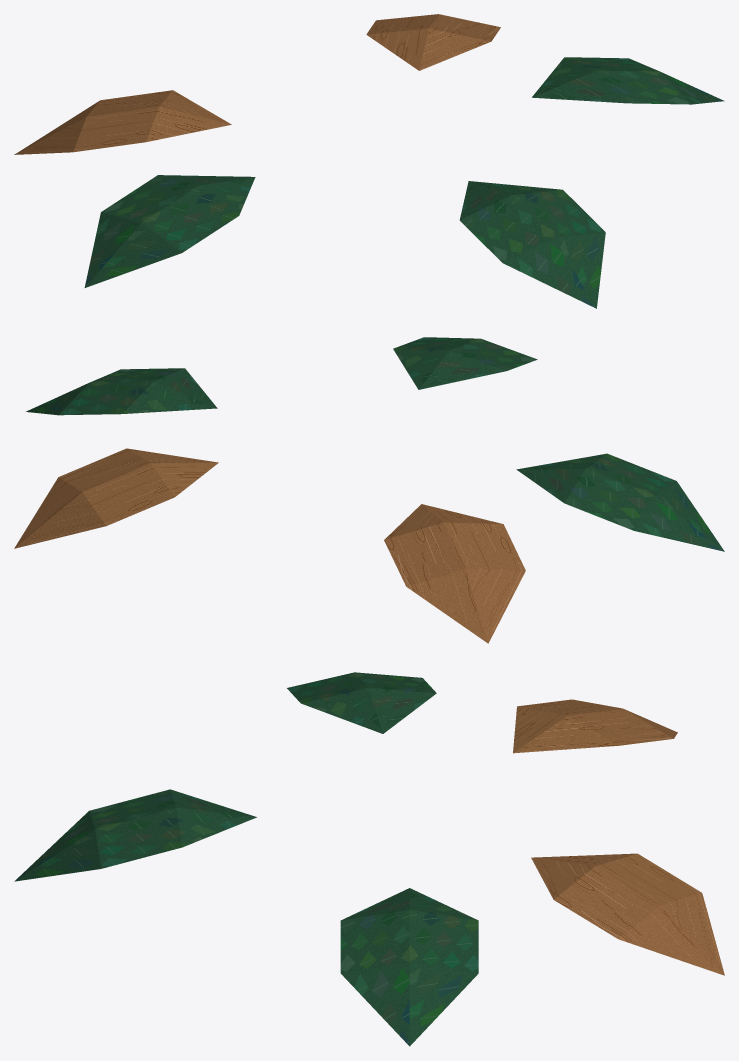
Rendered from leaf_litter.glb.
3 views of the same model, one above another, from view 1: azimuth 30°, elevation 25°; view 2: azimuth 150°, elevation 25°; view 3: azimuth 270°, elevation 25° (orthographic). The views are drawn at different scales.
Parts seen in each view (by area): view 1: DryLeaf; view 2: DryLeaf; view 3: DryLeaf.
Part boxes in pixels (left/top/right/bottom): DryLeaf: left=14, top=14, right=724, bottom=308; DryLeaf: left=14, top=337, right=724, bottom=643; DryLeaf: left=14, top=672, right=724, bottom=1046.
Bounding box in the file's own units: 0.8336 × 0.0735 × 0.698.
2 materials, 2 textured.
